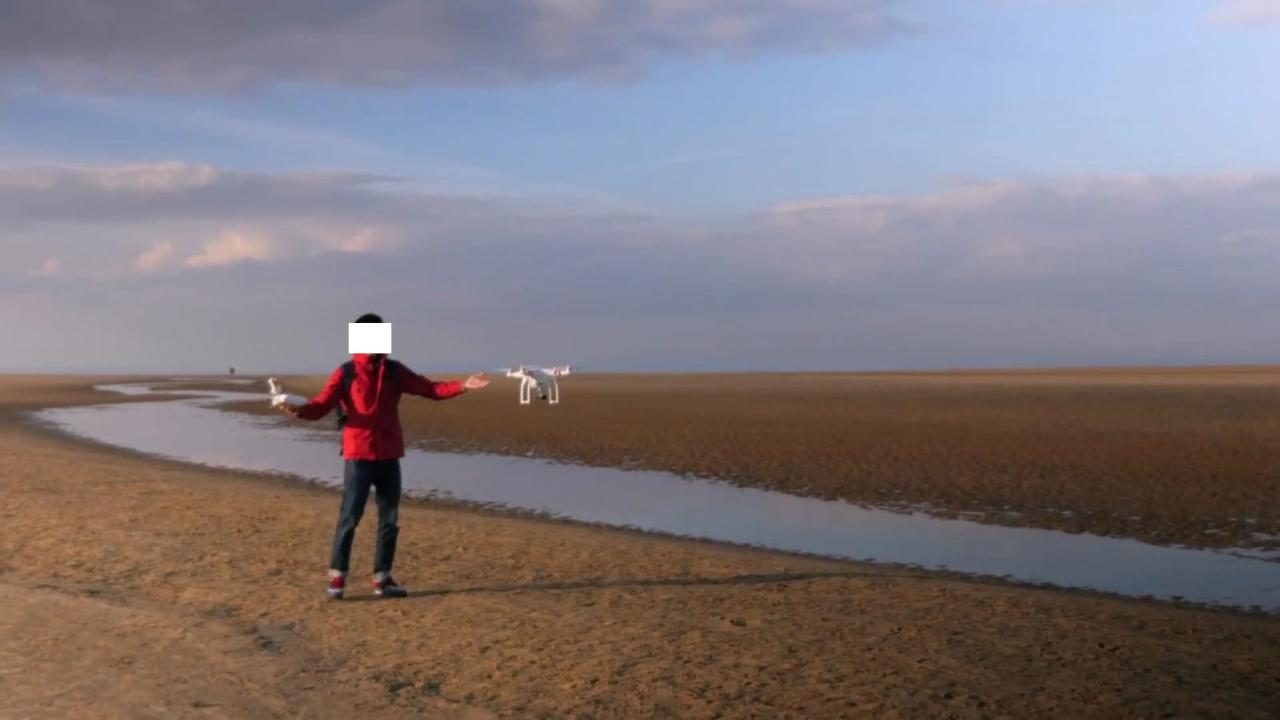Drone: (492, 352, 583, 413)
